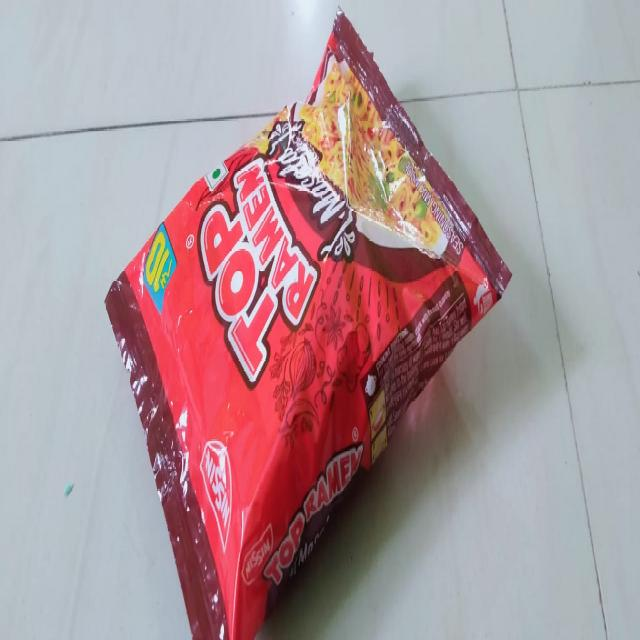maggi: (106, 4, 512, 635)
